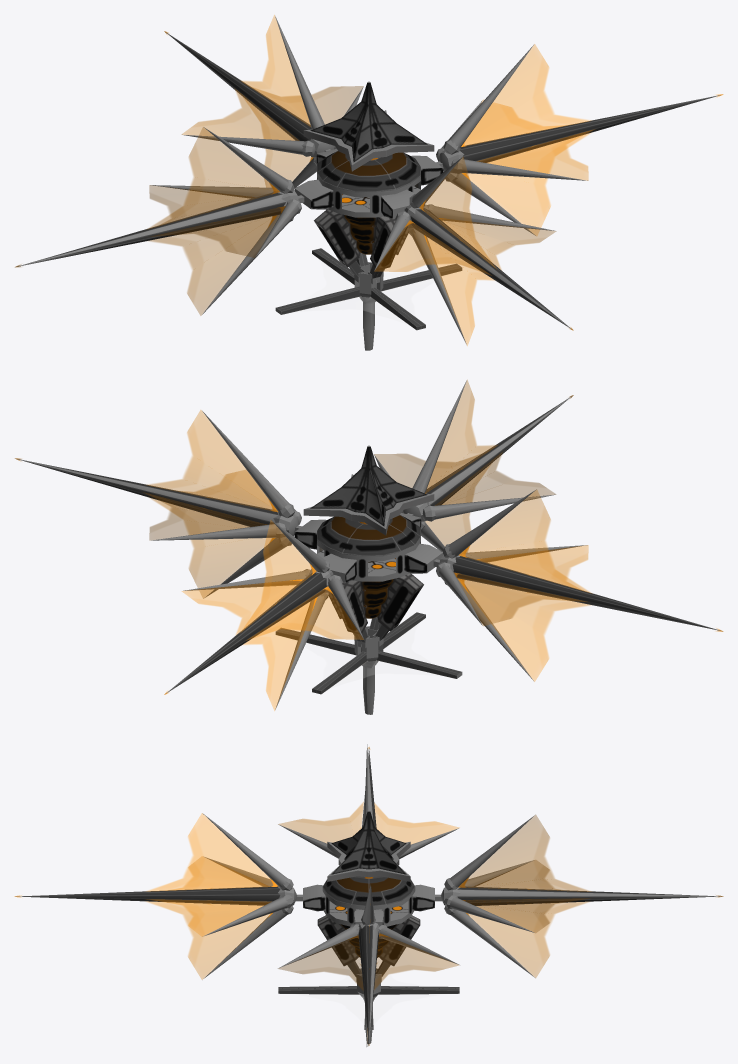
File: stellar_sail.glb
The picture shows the model from 3 angles, top to bottom: view 1: azimuth 30°, elevation 25°; view 2: azimuth 150°, elevation 25°; view 3: azimuth 270°, elevation 25°; orthographic projection. The views are drawn at different scales.
Visible parts, largest first — view 1: Symmetry_2; view 2: Symmetry_2; view 3: Symmetry_2.
Part boxes in pixels (x1,y1,x2,y2): Symmetry_2: [15, 15, 723, 350]; Symmetry_2: [15, 380, 723, 714]; Symmetry_2: [14, 744, 723, 1046].
Bounding box in the file's own units: 9685 × 3482 × 9685.
Materials: 1 (1 with a texture image).
